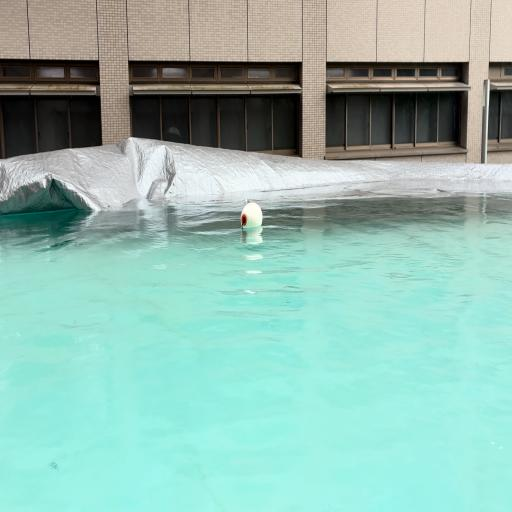white buoy: (240, 202, 263, 229)
